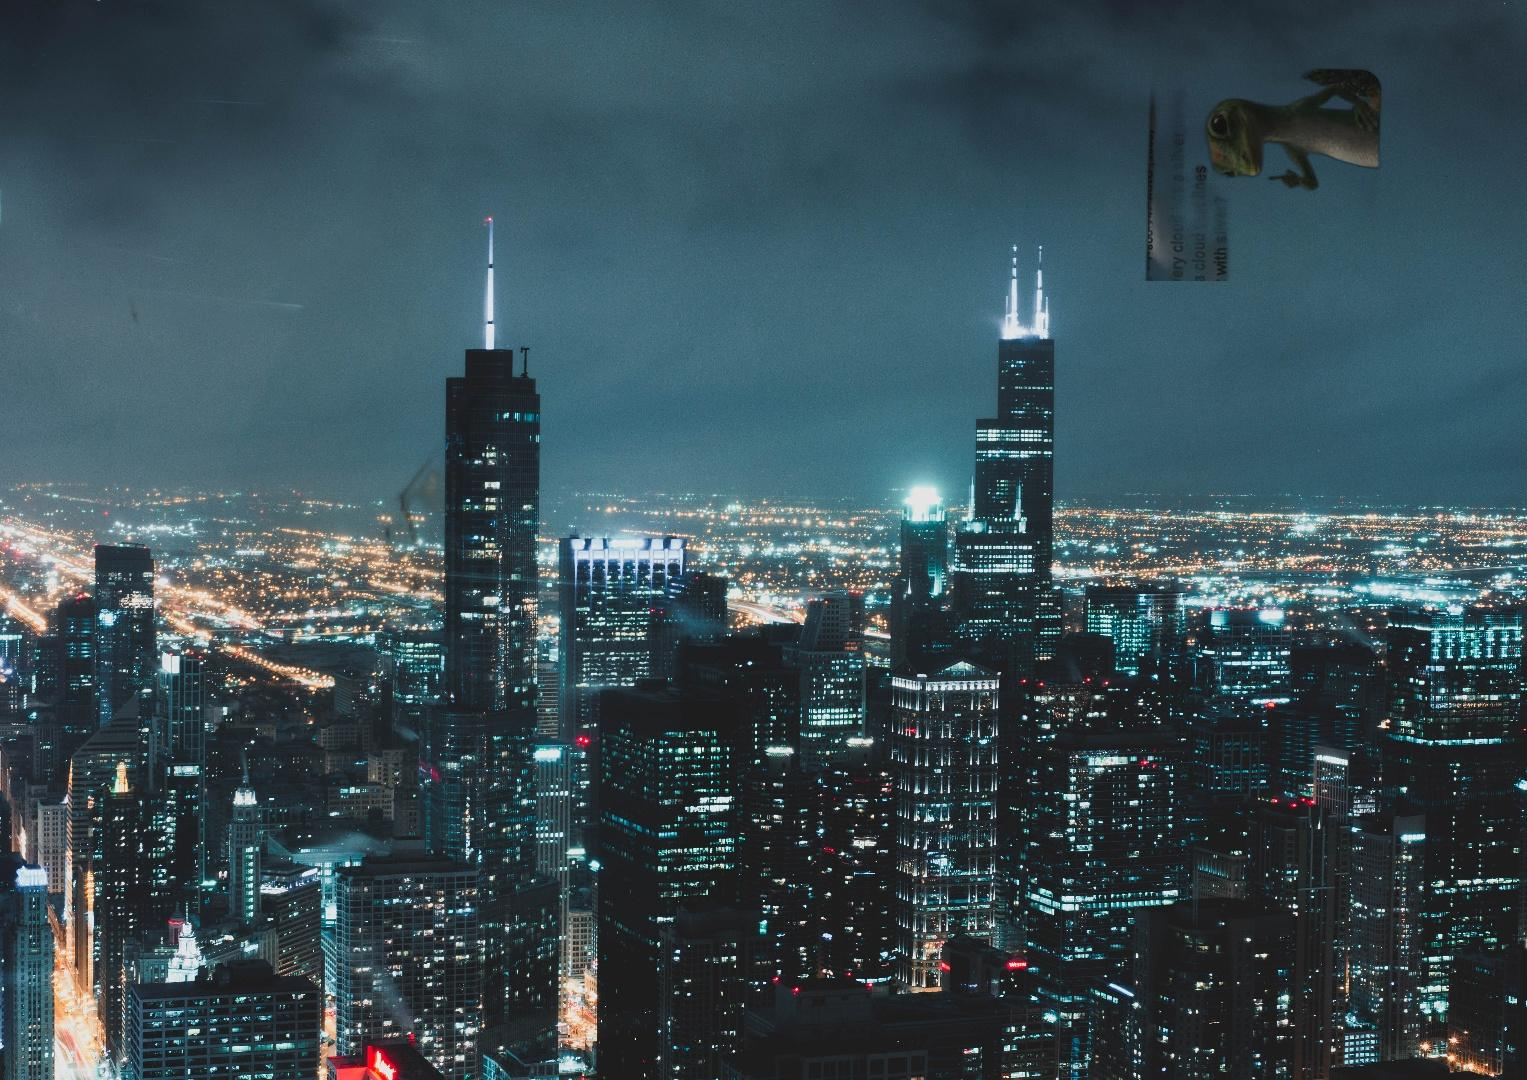paper: (1098, 16, 1431, 281)
trashbox-cardboard: (119, 244, 919, 764)
